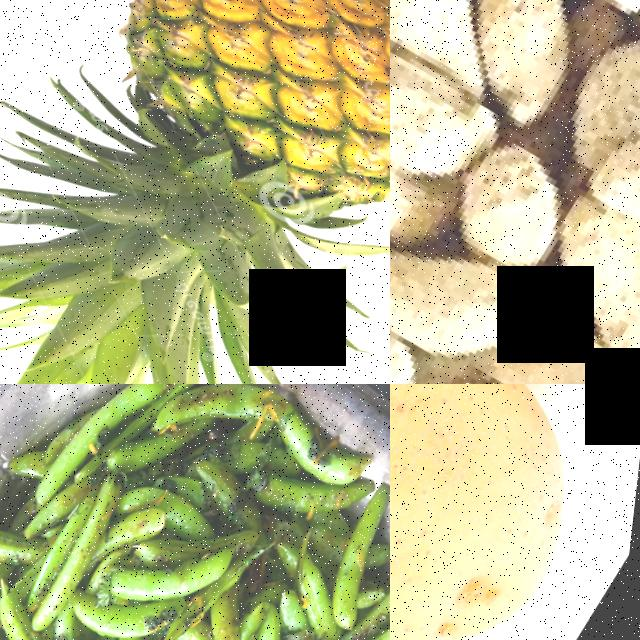peanuts: (390, 174, 548, 384), (390, 0, 521, 233), (572, 28, 640, 296)
pineapple: (0, 0, 390, 376)
potato: (390, 384, 640, 640)
